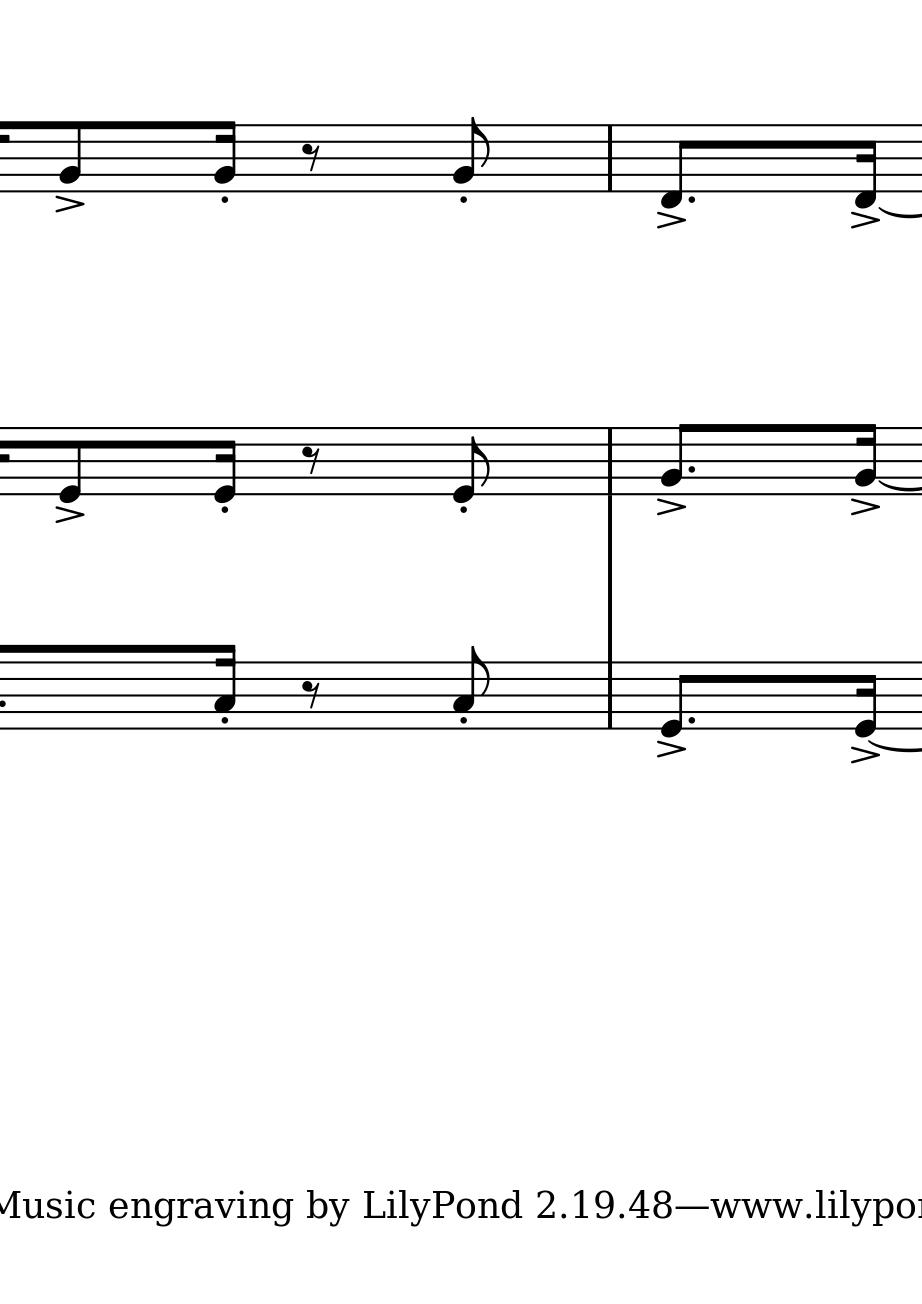16_-1: (856, 124, 877, 210)
16_0: (212, 425, 238, 505), (854, 659, 877, 738)
16_2: (853, 421, 879, 497), (212, 119, 238, 193)
16_3: (212, 641, 236, 731)
8_-1: (658, 123, 690, 209)
8_0: (452, 425, 489, 505), (658, 659, 690, 738), (57, 426, 82, 504)
8_2: (451, 116, 489, 193), (659, 421, 693, 496), (57, 120, 82, 194)
8_3: (451, 644, 490, 731)
Accent_above: (654, 738, 687, 759), (52, 194, 86, 213), (848, 211, 882, 230), (847, 497, 881, 516), (652, 498, 687, 516), (848, 745, 881, 764), (653, 212, 687, 229), (52, 506, 84, 524)
Rests8: (299, 141, 322, 173), (299, 445, 321, 477), (299, 678, 321, 710)
Single_barline: (599, 661, 621, 730), (599, 429, 621, 495), (600, 125, 620, 193)
dot: (685, 464, 697, 476), (685, 194, 697, 205), (685, 715, 697, 726)
